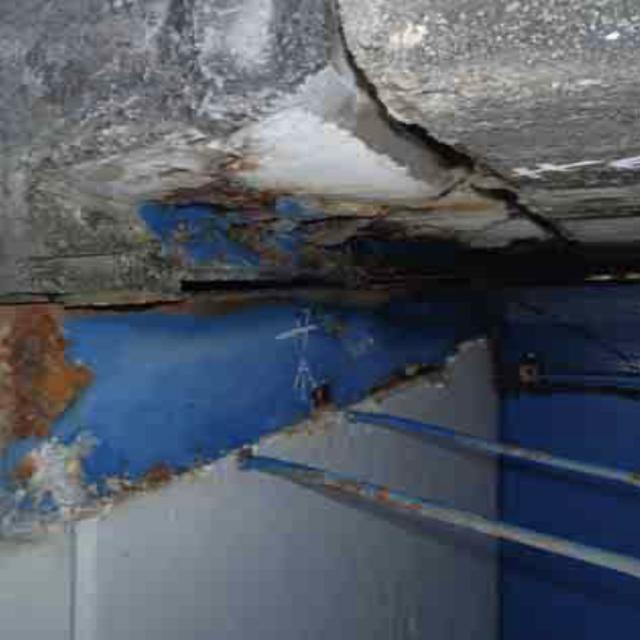corrosion: (14, 175, 507, 486)
